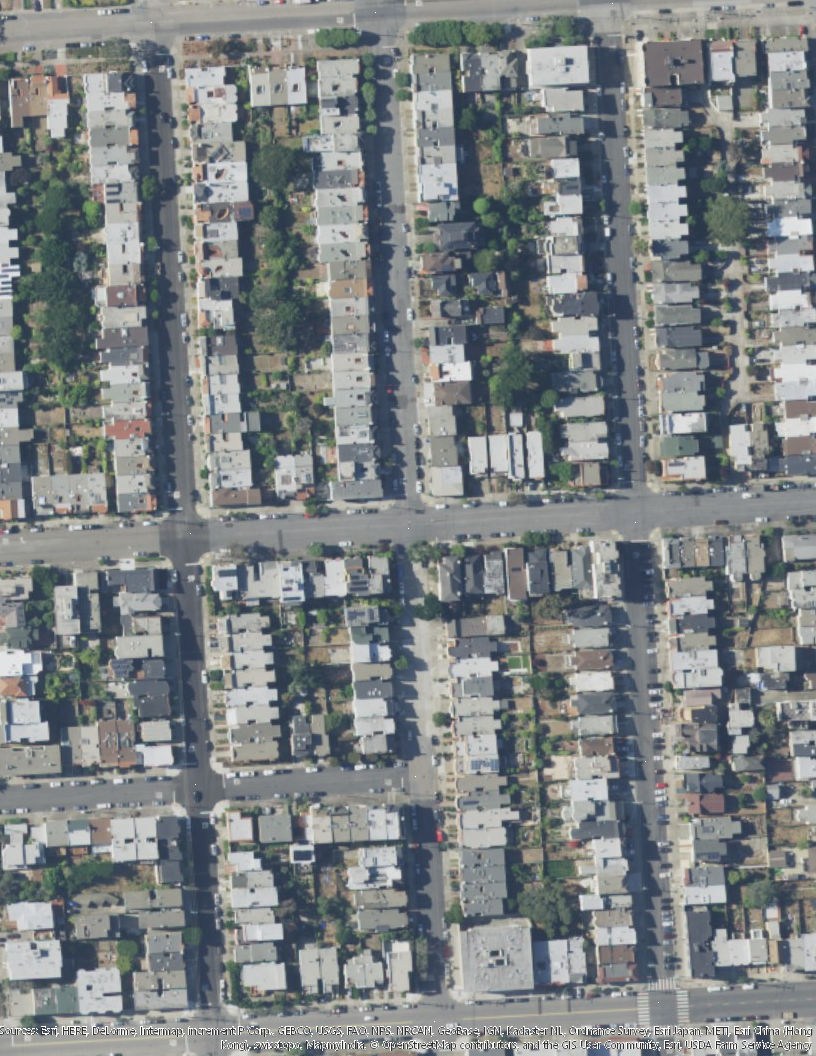zebracross: (636, 991, 652, 1027), (676, 990, 690, 1026), (647, 978, 677, 991)
